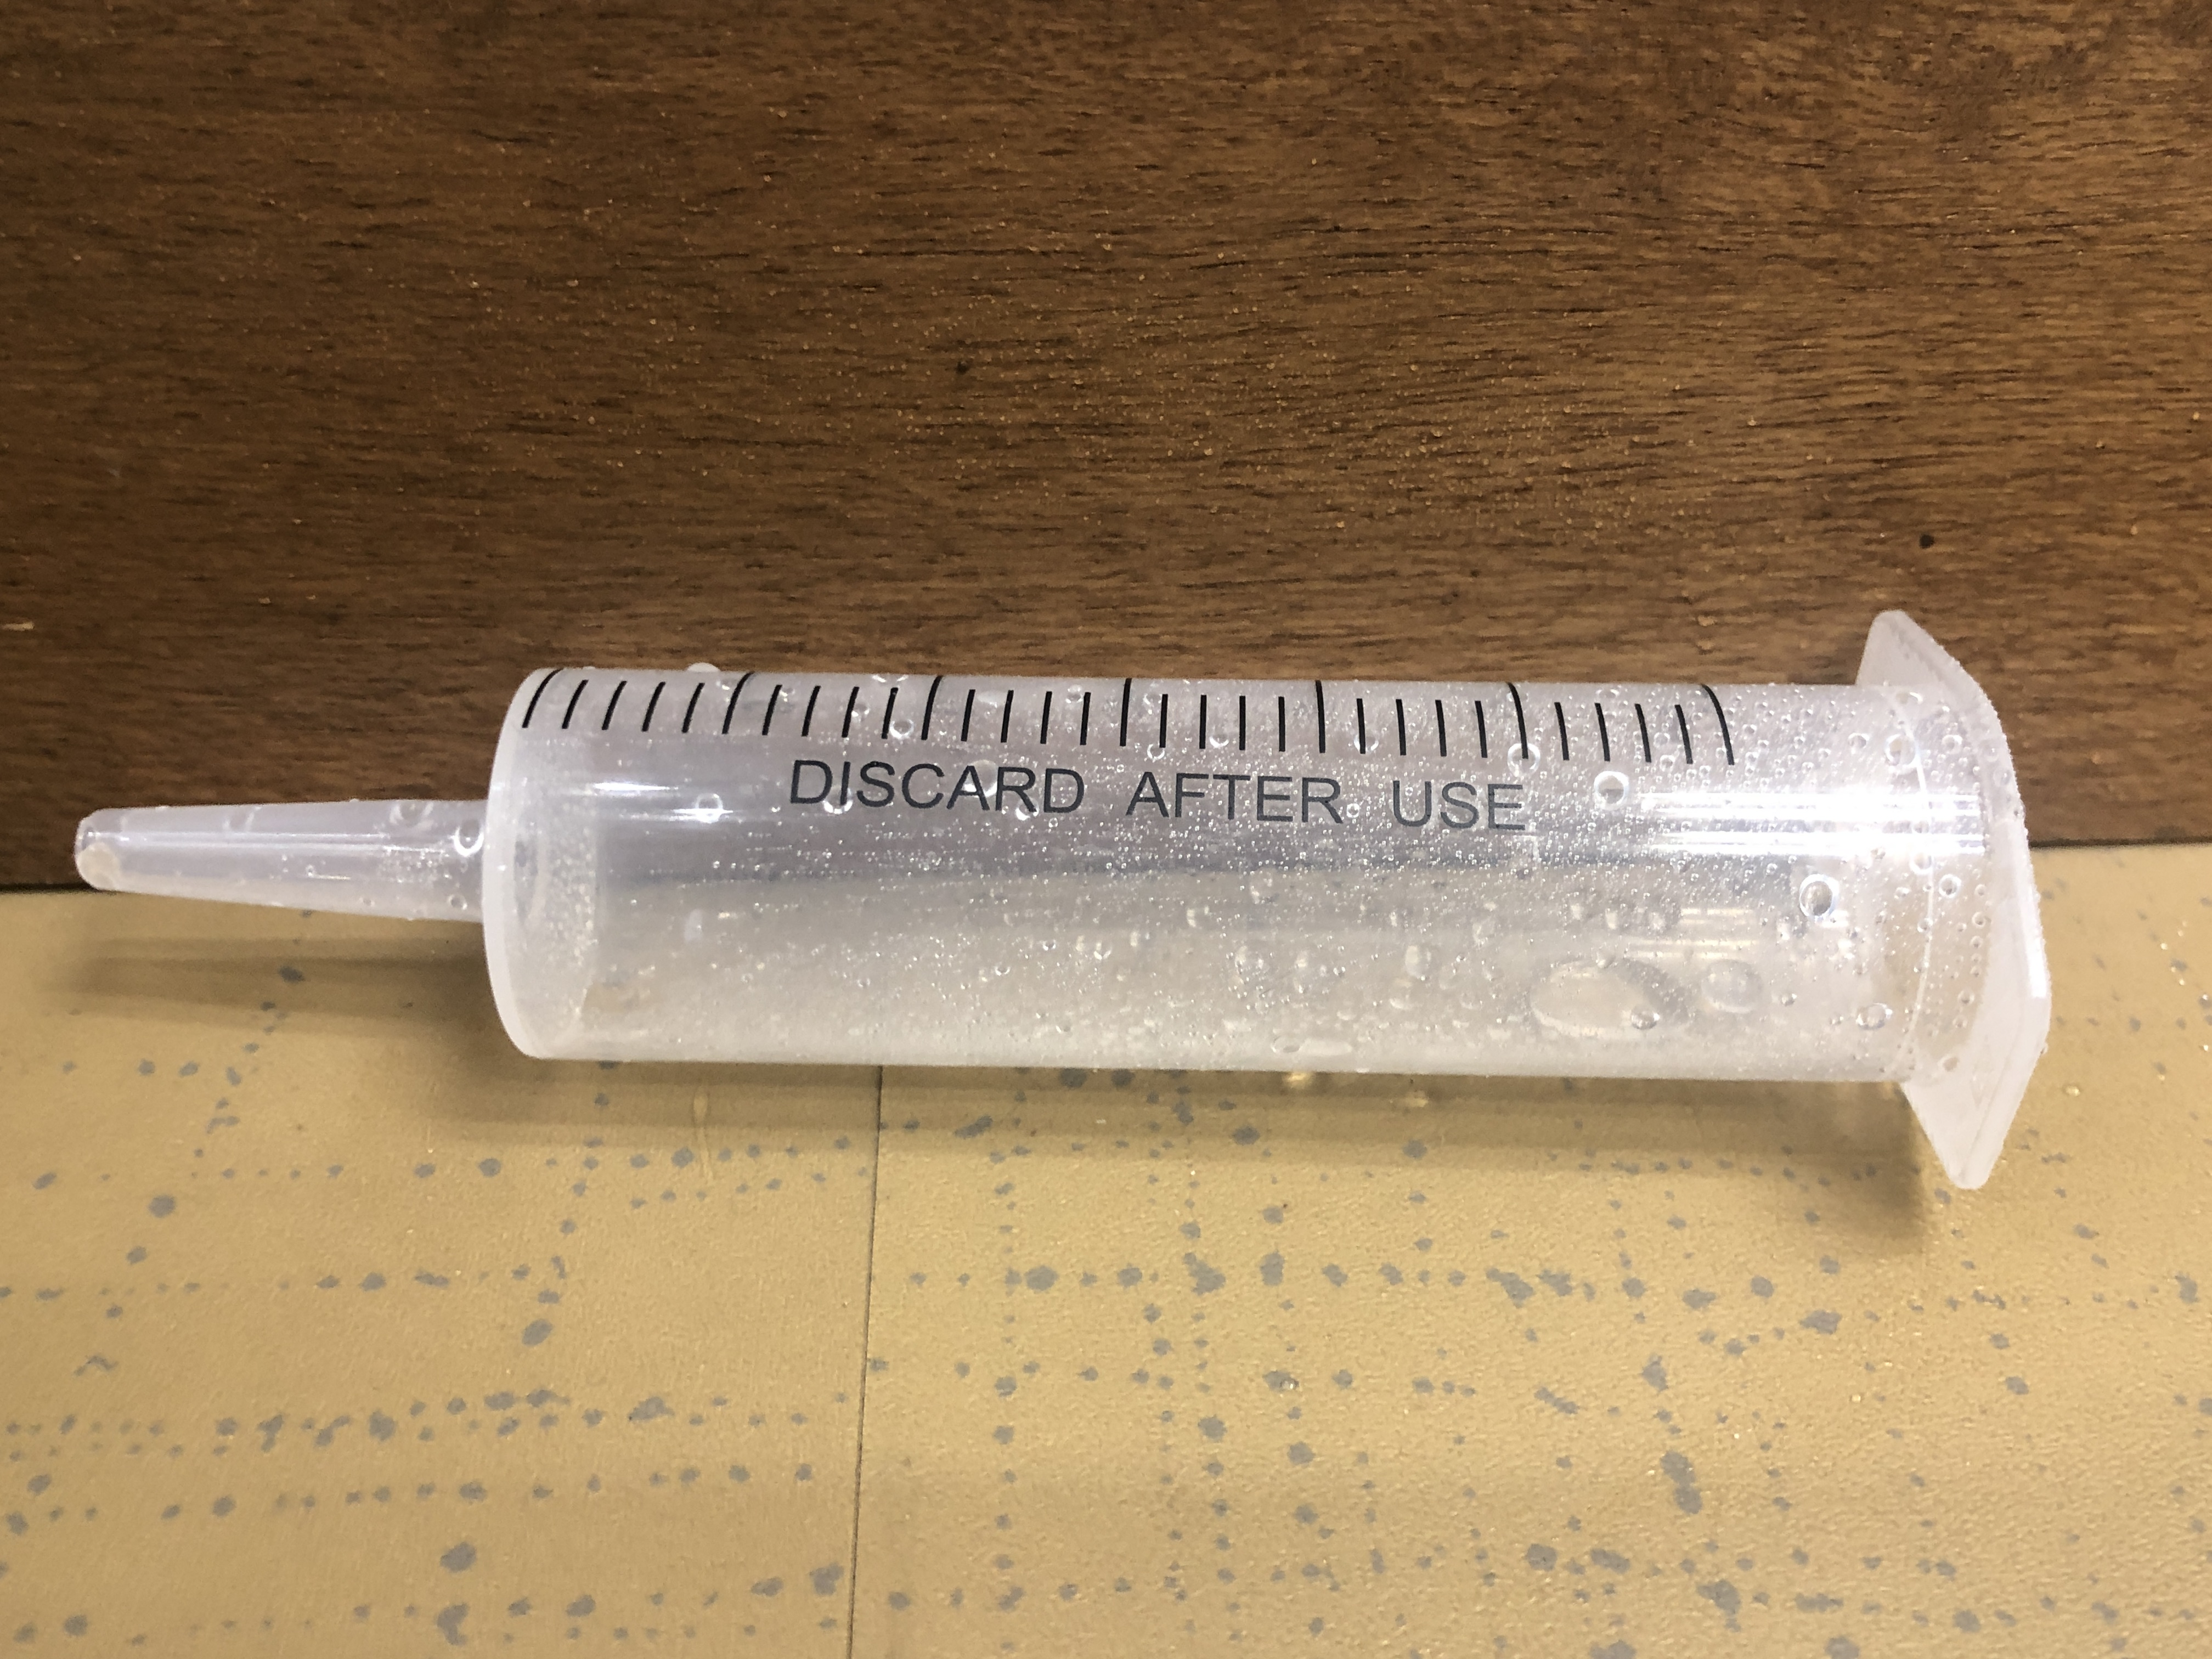syringe: (71, 601, 2057, 1199)
